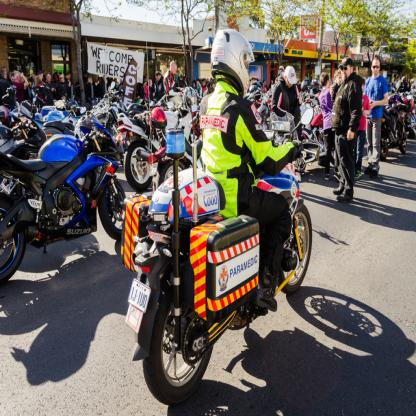Helmet: (208, 27, 256, 99), (168, 59, 181, 75)
